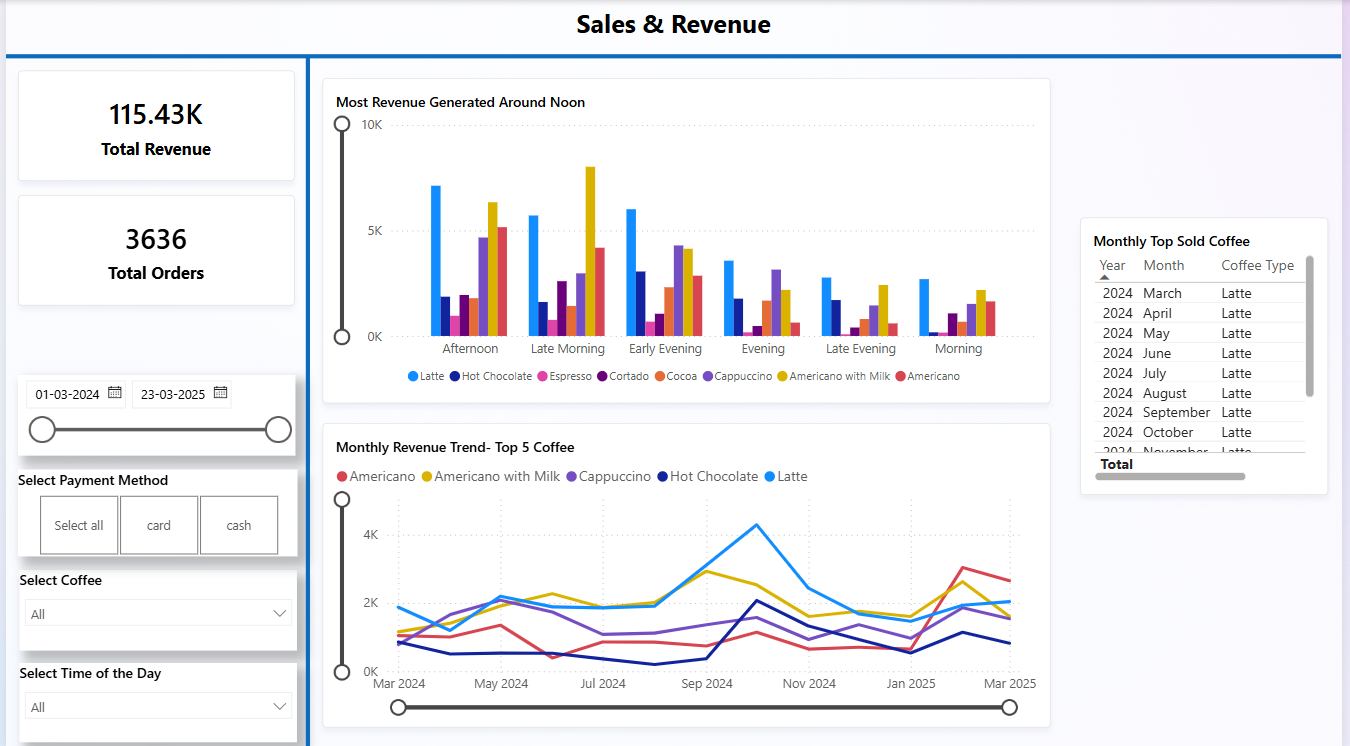

This screenshot's page, from the dashboard's own definition file:
{"tool":"powerbi","page":{"name":"Sales & Revenue","canvas":[1280,720],"ordinal":1},"visuals":[{"type":"clusteredColumnChart","title":"Most Revenue Generated Around Noon","fields":{"Category":["Coffee_Sales_Dataset.Times of The Day"],"Series":["Coffee_Sales_Dataset.Coffee Type"],"Y":["Coffee_Sales_Dataset.Total_Revenue"]},"box":[304,75,698,312],"z":0},{"type":"lineChart","title":"Monthly Revenue Trend- Top 5 Coffee","fields":{"Series":["Coffee_Sales_Dataset.Coffee_Name"],"Y":["Coffee_Sales_Dataset.Total_Revenue"],"Category":["Coffee_Sales_Dataset.Date.Variation.Date Hierarchy.Year","Coffee_Sales_Dataset.Date.Variation.Date Hierarchy.Month","Coffee_Sales_Dataset.Date.Variation.Date Hierarchy.Day"]},"box":[304,405,698,292],"z":1000},{"type":"tableEx","title":"Monthly Top Sold Coffee","fields":{"Values":["Coffee_Sales_Dataset.Date.Variation.Date Hierarchy.Year","Coffee_Sales_Dataset.Date.Variation.Date Hierarchy.Month","Coffee_Sales_Dataset.Coffee_Name","Coffee_Sales_Dataset.Total_orders"]},"box":[1029,208,238,266],"z":2000},{"type":"slicer","fields":{"Values":["Coffee_Sales_Dataset.Date"]},"box":[12,359,266,77],"z":3000},{"type":"slicer","title":"Select Coffee","fields":{"Values":["Coffee_Sales_Dataset.Coffee_Name"]},"box":[13,546,266,77],"z":4000},{"type":"slicer","title":"Select Payment Method","fields":{"Values":["Coffee_Sales_Dataset.Payment_method"]},"box":[11,450,268,83],"z":5000},{"type":"textbox","box":[335,0,610,47],"z":6000},{"type":"card","title":"Total Orders","fields":{"Values":["Coffee_Sales_Dataset.Total_Revenue"]},"box":[11,68,265,106],"z":7000},{"type":"card","title":"Total Orders","fields":{"Values":["Coffee_Sales_Dataset.Total_orders"]},"box":[11,187,265,106],"z":8000},{"type":"slicer","title":"Select Time of the Day","fields":{"Values":["Coffee_Sales_Dataset.Times of The Day"]},"box":[13,635,266,76],"z":9000},{"type":"shape","box":[0,48,1280,13],"z":10000},{"type":"shape","box":[280,55,18,665],"z":11000}]}

Visuals, with their boxes in screenshot pixels (x1, y1, x2, y2), scaled from the page's 1280x720 canvas onto the 1350x746 screenshot:
"Most Revenue Generated Around Noon" clusteredColumnChart: bbox(321, 78, 1057, 401)
"Monthly Revenue Trend- Top 5 Coffee" lineChart: bbox(321, 420, 1057, 722)
"Monthly Top Sold Coffee" tableEx: bbox(1085, 216, 1336, 491)
slicer - Coffee_Sales_Dataset.Date: bbox(13, 372, 293, 452)
"Select Coffee" slicer: bbox(14, 566, 294, 645)
"Select Payment Method" slicer: bbox(12, 466, 294, 552)
textbox: bbox(353, 0, 997, 49)
"Total Orders" card: bbox(12, 70, 291, 180)
"Total Orders" card: bbox(12, 194, 291, 304)
"Select Time of the Day" slicer: bbox(14, 658, 294, 737)
shape: bbox(0, 50, 1349, 63)
shape: bbox(295, 57, 314, 745)
